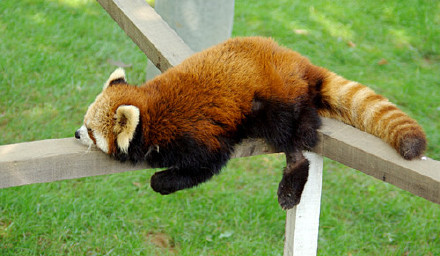raccoon: (72, 34, 431, 211)
